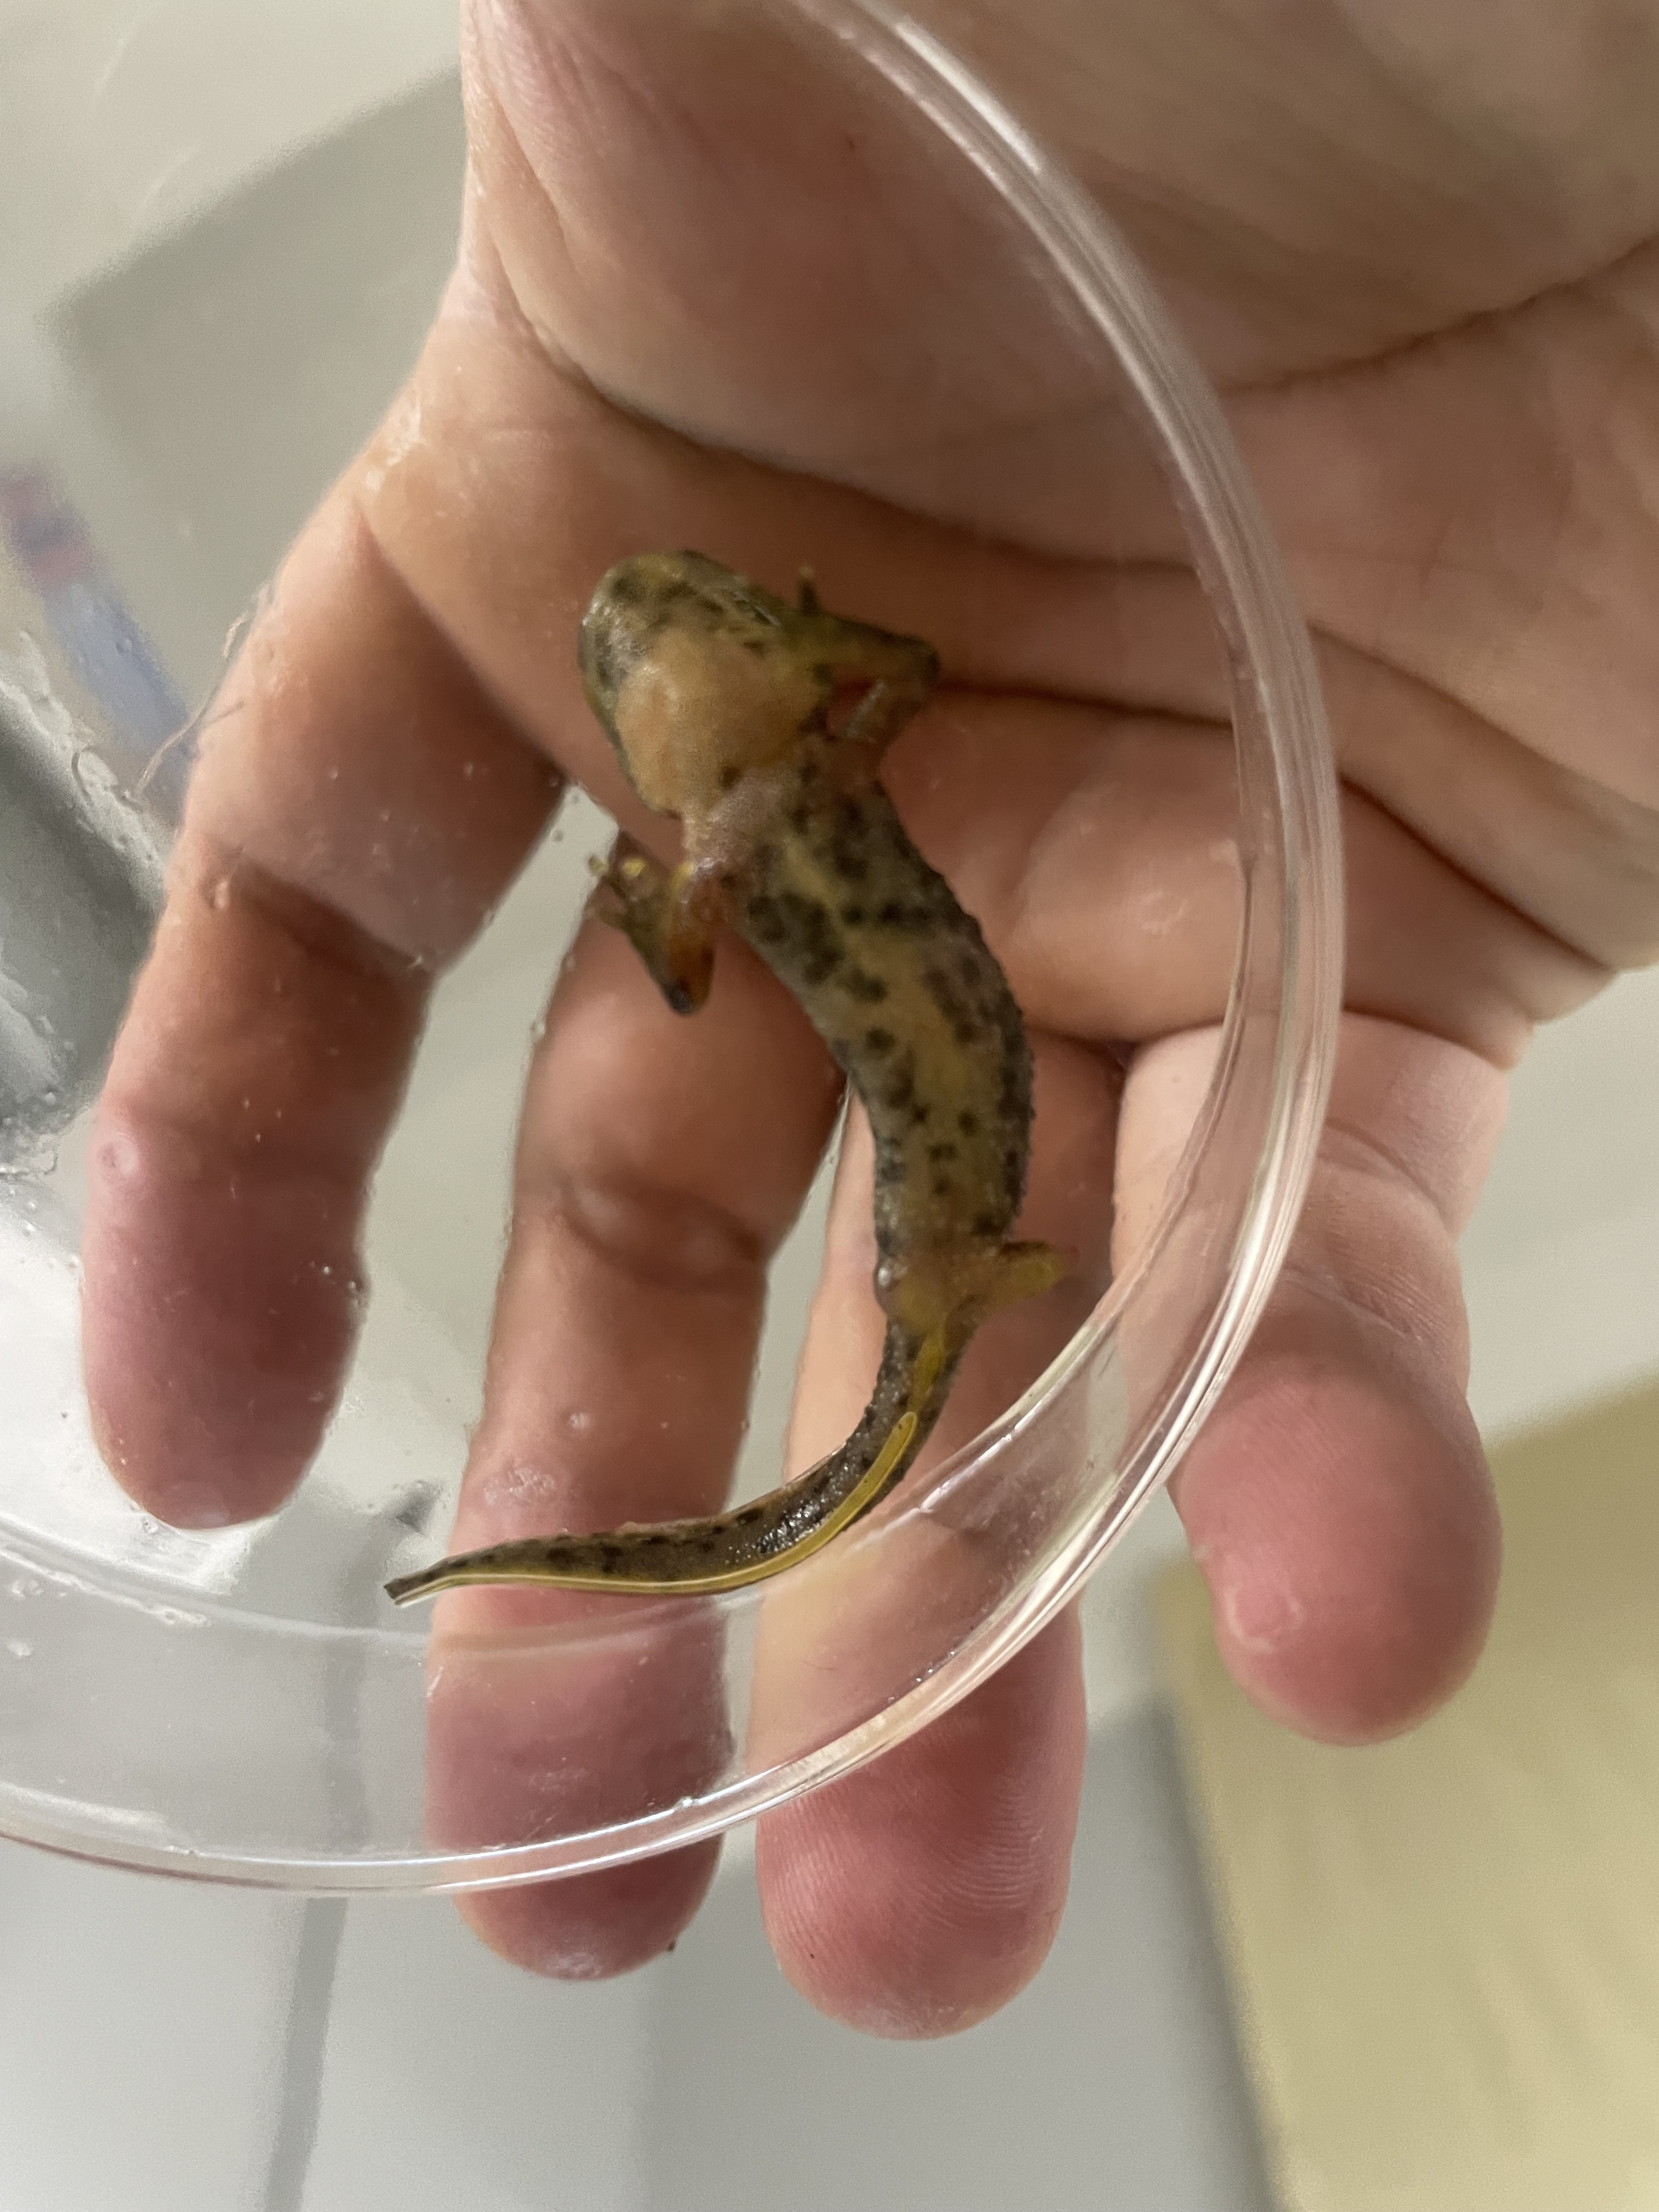newt_ribbed: (720, 766, 1035, 1254)
